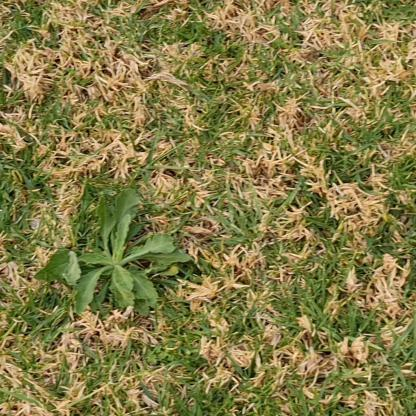Weeds: (33, 186, 191, 320)
